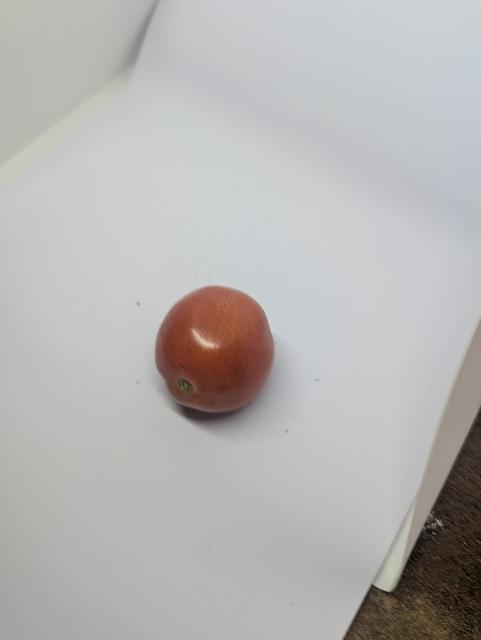red: (151, 283, 280, 429)
